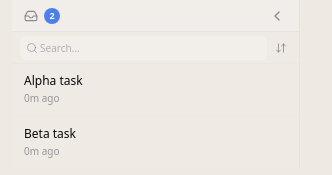
Scenario: ScratchPool › clear search restores full list
Type "alpha" into the field named "Search scratches" at coordinates (144, 48), box [20, 36, 267, 60]
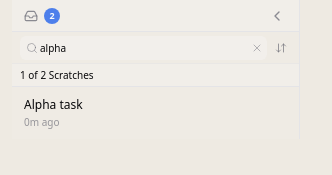
Click the button named "Clear search" at coordinates (257, 48), box [251, 42, 263, 54]
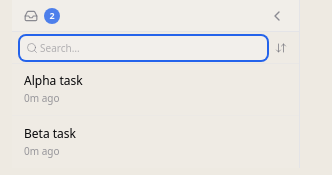
expect the text "Alpha task" is shown: met, box [24, 72, 83, 89]
expect the text "Beta task" is shown: met, box [24, 124, 76, 142]
